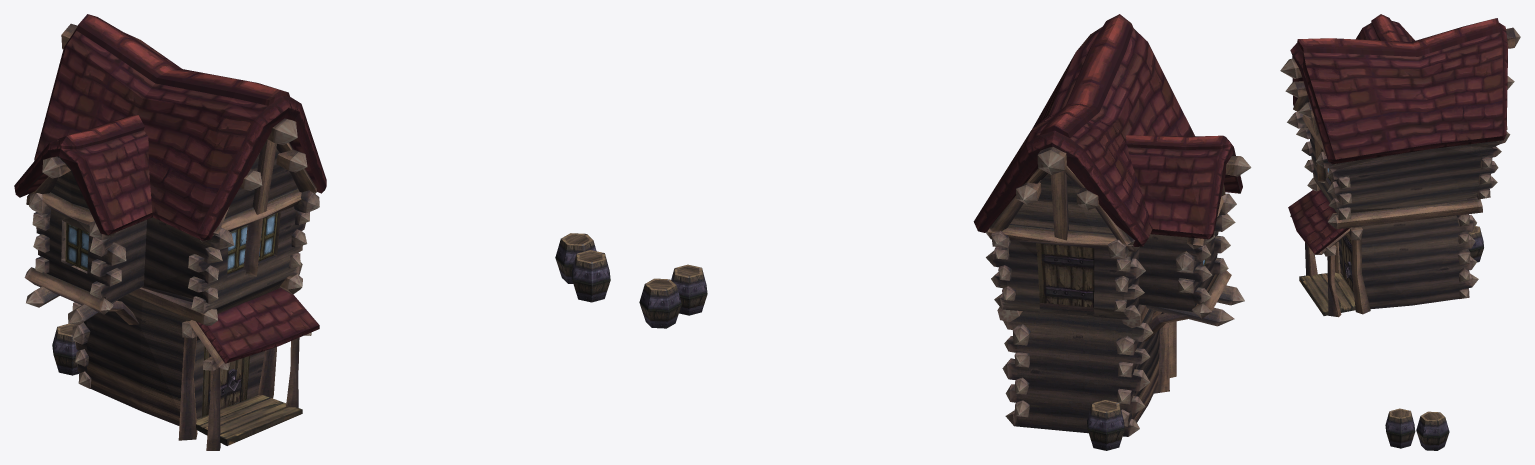
Rendered from building_generic1b.fbx.
3 renders of one model, left to right at view 1: azimuth 30°, elevation 25°; view 2: azimuth 150°, elevation 25°; view 3: azimuth 270°, elevation 25°, orthographic. The views are drawn at different scales.
Parts seen in each view (by area): view 1: obj4.001; view 2: obj4.001; view 3: obj4.001.
Boxes of the visible parts, left/top/right/bottom form: obj4.001: left=14, top=14, right=610, bottom=450; obj4.001: left=639, top=14, right=1251, bottom=450; obj4.001: left=1280, top=14, right=1520, bottom=450.
Size of the model in its own units: 18.27 by 10.4 by 8.47.
